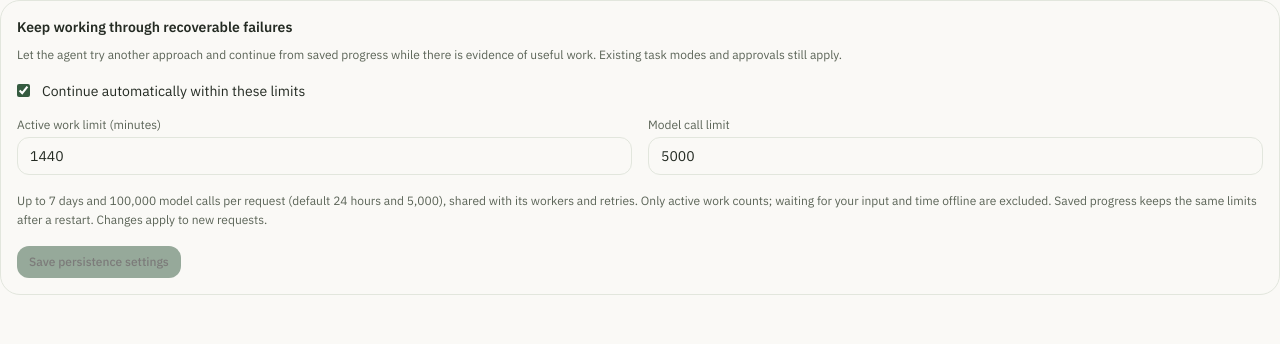
saves request-wide limits with minutes converted to seconds
This screenshot has width=1280, height=344.
Replace the text in the number field named "Persistence time limit in minutes" with "60" at (324, 156), box [17,136,632,174]
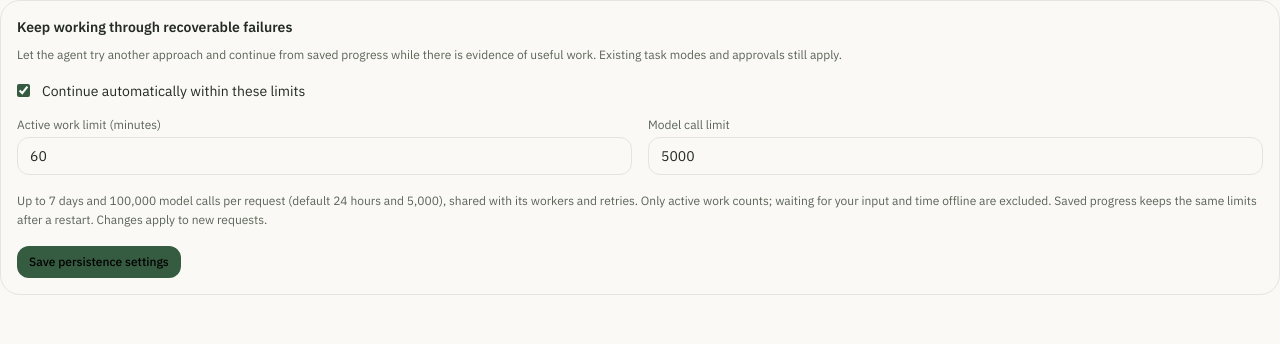
Replace the text in the number field named "Persistence model call limit" with "250" at (956, 156), box [648,136,1263,174]
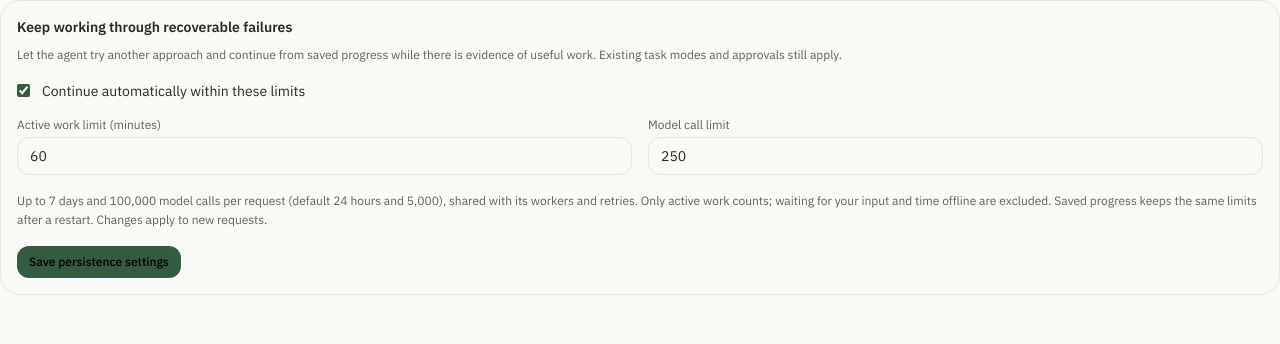
Click the button "Save persistence settings" at (99, 262), box [17,246,181,278]
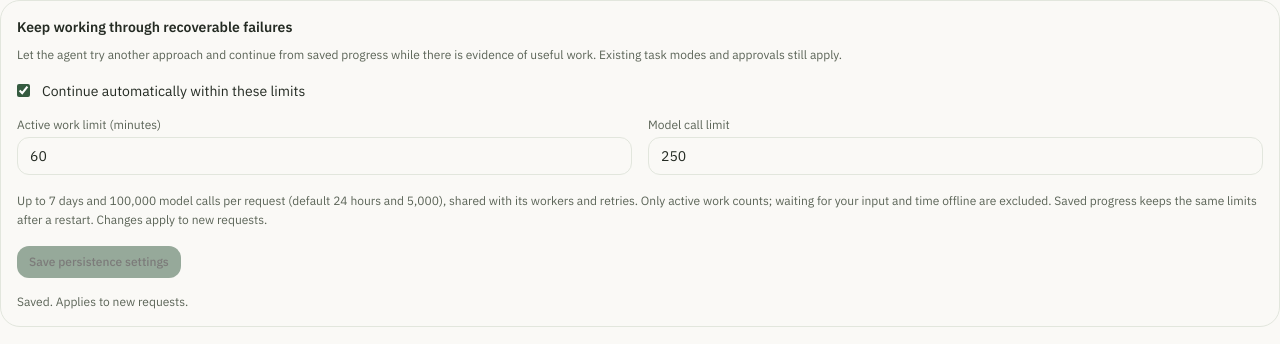
Check: the message shows "Applies to new requests", box [17,294,188,308]
